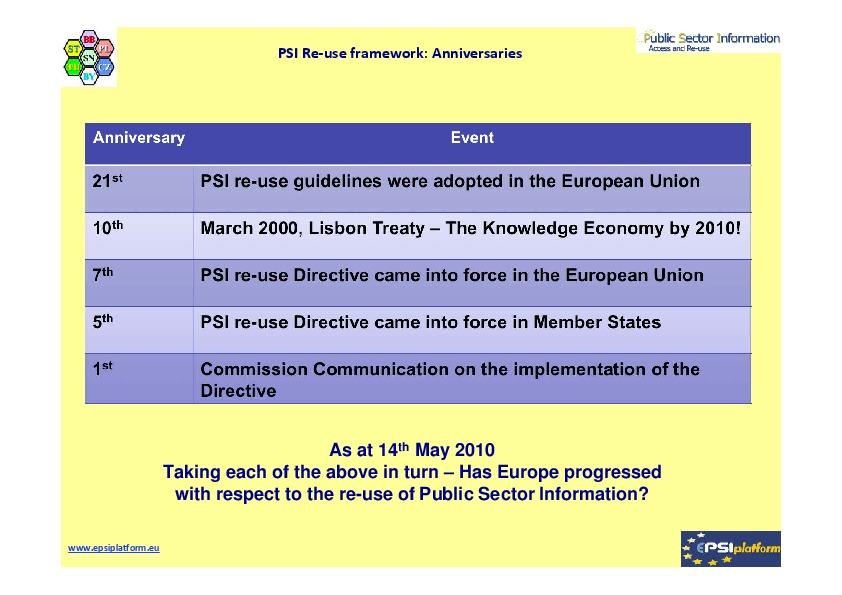paragraph: (84, 110, 765, 506)
title: (270, 34, 543, 85)
